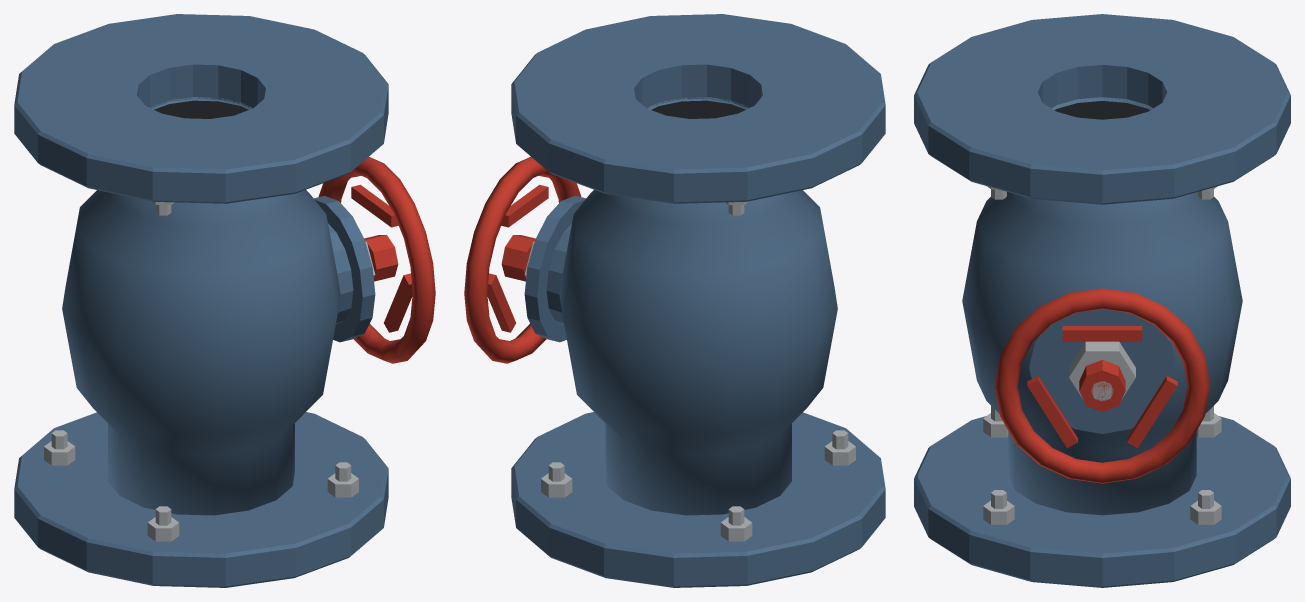
Rendered from valve_basic.glb.
3 views of the same model, side by side, from view 1: azimuth 30°, elevation 25°; view 2: azimuth 150°, elevation 25°; view 3: azimuth 270°, elevation 25° (orthographic).
Parts seen in each view (by area): view 1: valve_basic; view 2: valve_basic; view 3: valve_basic.
Boxes of the visible parts, x1,y1,x2,y2 form: valve_basic: (14, 14, 435, 587); valve_basic: (464, 14, 885, 587); valve_basic: (914, 14, 1290, 587).
Size of the model in its own units: 0.192 by 0.22 by 0.18.
